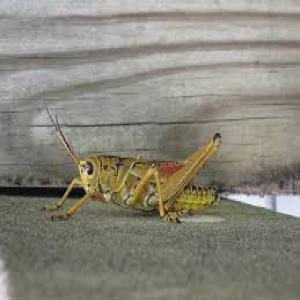locust: (60, 128, 278, 234)
